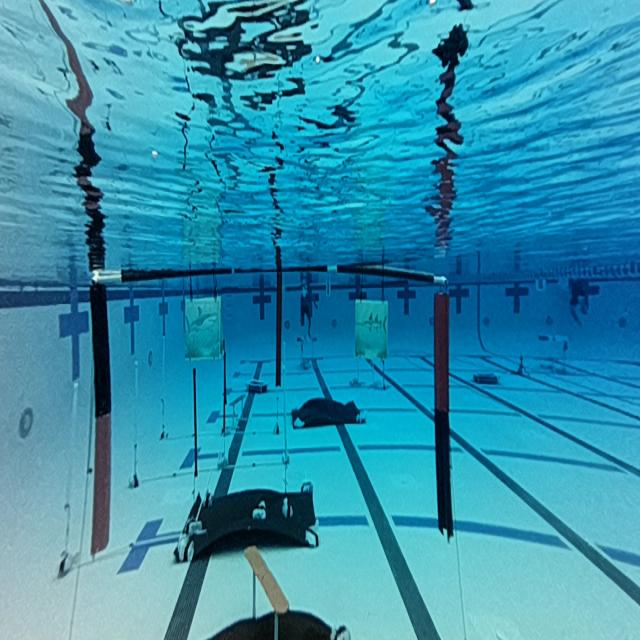pointed_nose: (358, 297, 389, 360)
round_nose: (185, 296, 222, 361)
